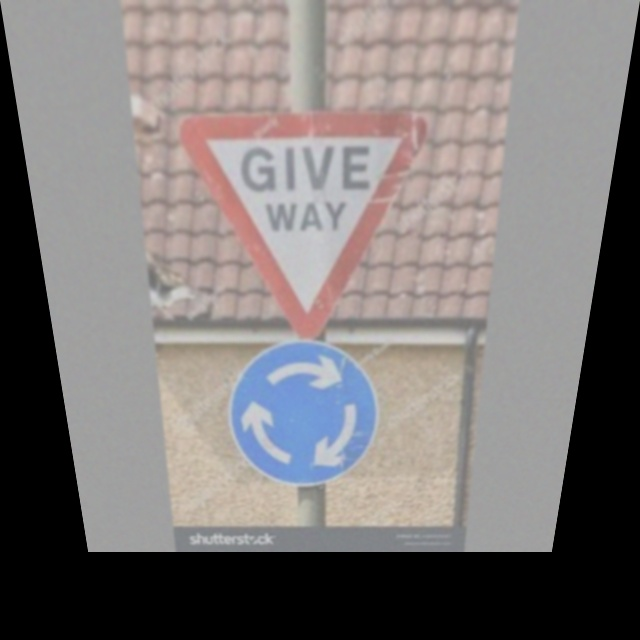Give_Way: (185, 113, 427, 341)
